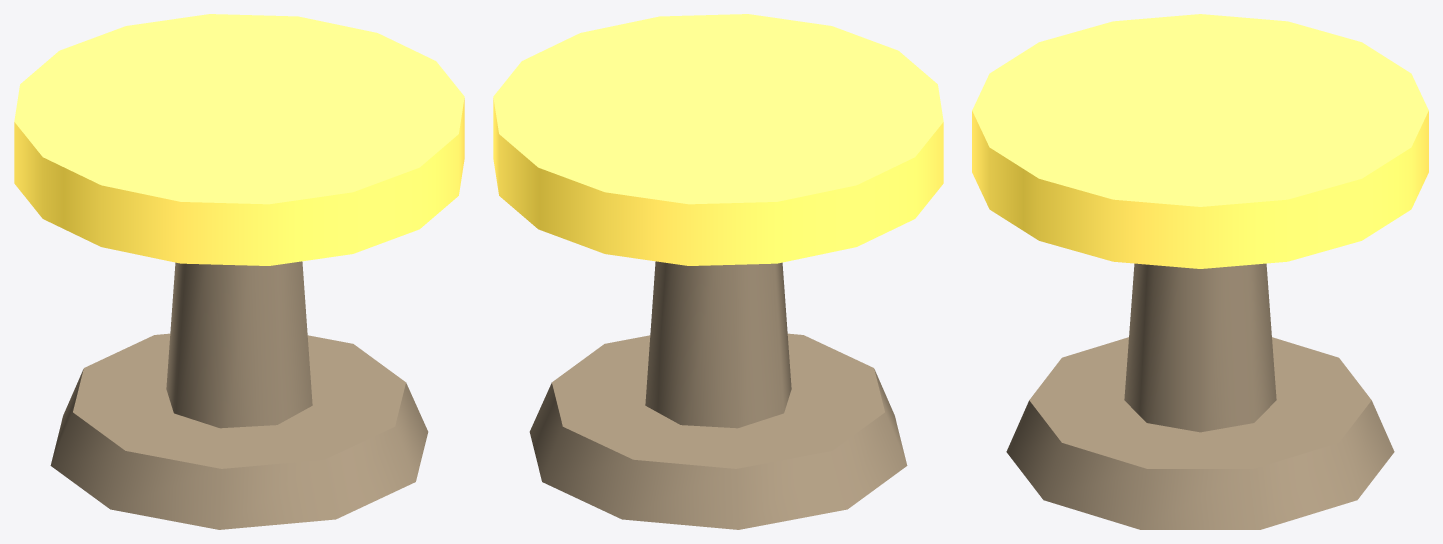
Rendered from trophy.glb.
3 renders of one model, left to right at view 1: azimuth 30°, elevation 25°; view 2: azimuth 150°, elevation 25°; view 3: azimuth 270°, elevation 25°, orthographic.
Visible parts, largest first — view 1: trophy; view 2: trophy; view 3: trophy.
Boxes of the visible parts, x1=… form: trophy: x1=14, y1=14, x2=464, y2=529; trophy: x1=493, y1=14, x2=943, y2=529; trophy: x1=972, y1=14, x2=1428, y2=529.
Bounding box in the file's own units: 0.8 × 0.66 × 0.8.
